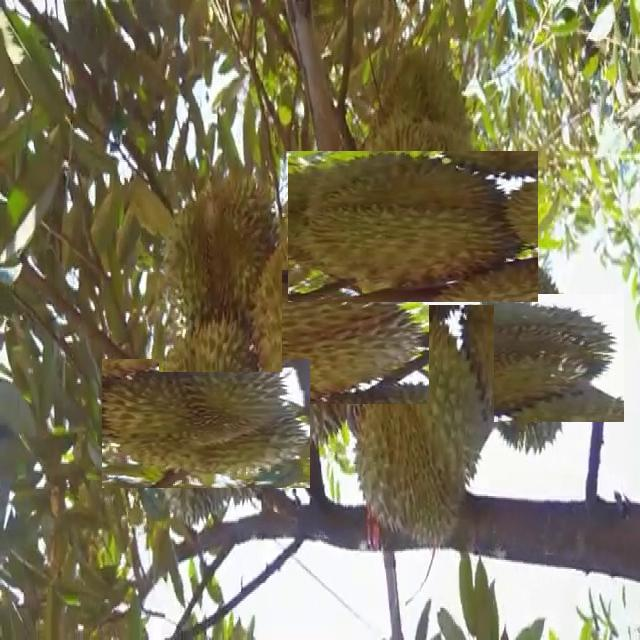durian: (312, 126, 514, 328), (352, 305, 494, 561), (224, 246, 406, 428), (122, 339, 290, 508), (437, 275, 604, 442), (159, 159, 282, 372)
